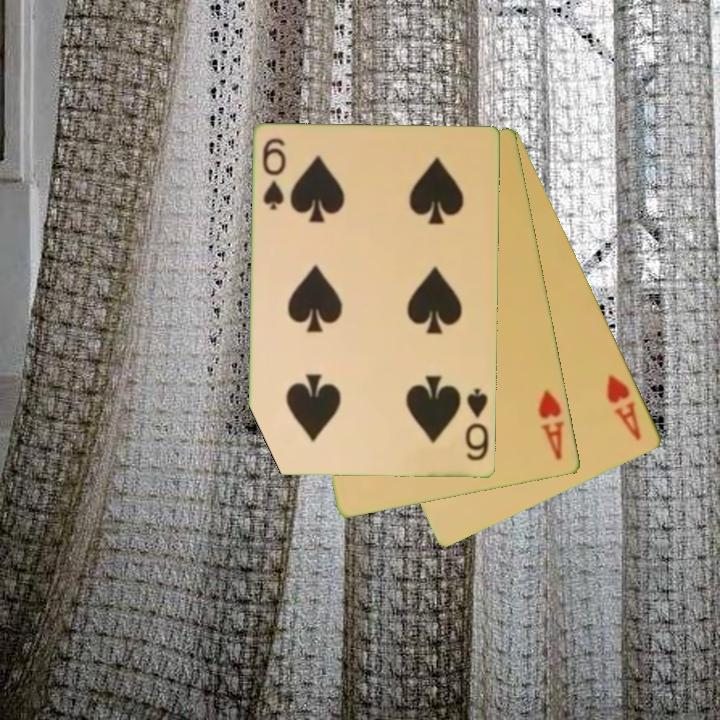6s: (259, 135, 290, 213), (462, 386, 492, 464)
Ah: (603, 371, 645, 444), (535, 386, 568, 463)
